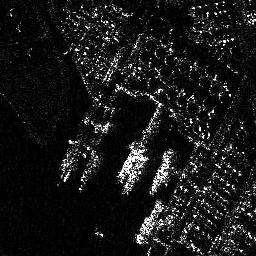ship: (135, 199, 166, 244), (148, 150, 177, 195), (116, 142, 142, 182), (123, 156, 148, 196)
